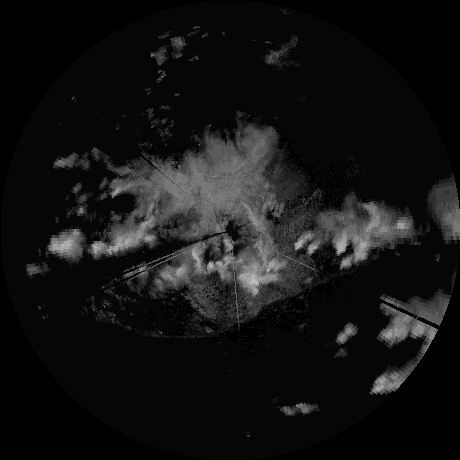frontgust: (89, 287, 227, 339)
